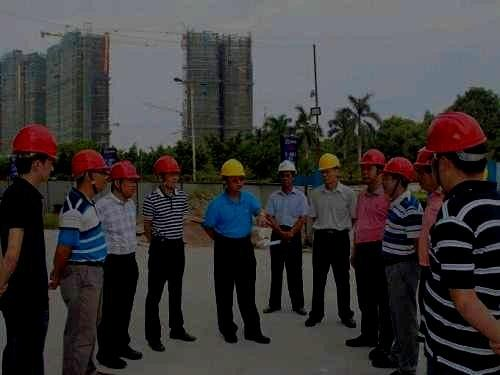helmet: (418, 111, 488, 193), (10, 124, 58, 182), (71, 149, 108, 193), (378, 156, 416, 196), (413, 145, 439, 192), (108, 160, 141, 197), (152, 156, 182, 189), (359, 149, 387, 184), (221, 159, 246, 191), (318, 153, 341, 183), (277, 160, 296, 185)
